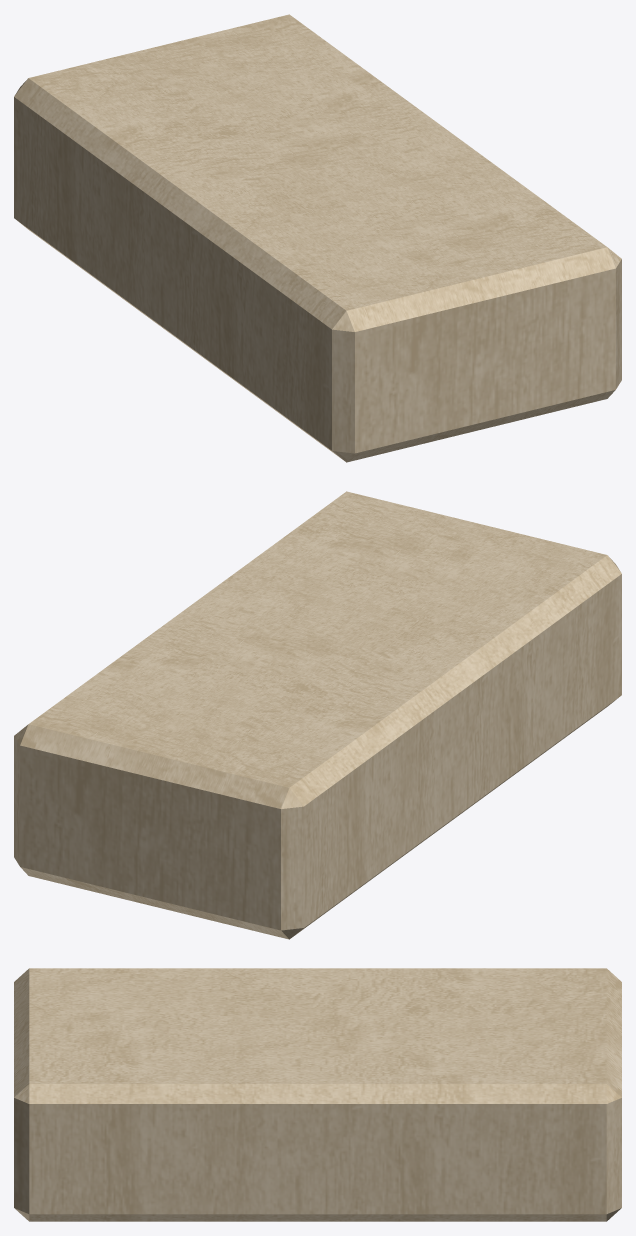
Rendered from plank_block_x1.glb.
The picture shows the model from 3 angles, top to bottom: view 1: azimuth 30°, elevation 25°; view 2: azimuth 150°, elevation 25°; view 3: azimuth 270°, elevation 25°; orthographic projection. The views are drawn at different scales.
Parts seen in each view (by area): view 1: plank_x1; view 2: plank_x1; view 3: plank_x1.
Part boxes in pixels (<box>): plank_x1: <box>14,14,621,462</box>; plank_x1: <box>14,491,621,939</box>; plank_x1: <box>14,968,621,1221</box>.
Size of the model in its own units: 2 by 1 by 4.
1 material, 1 textured.
